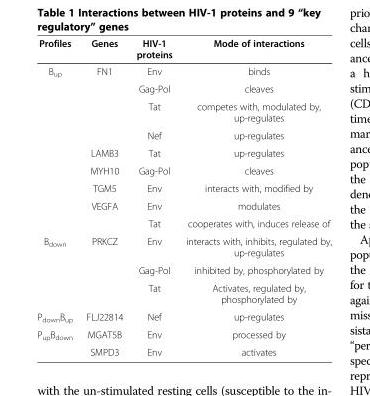table: (36, 37, 331, 357)
table column: (178, 37, 331, 357), (78, 37, 129, 357), (129, 37, 178, 357), (36, 37, 78, 357)
table column header: (36, 37, 331, 62)
table row: (36, 97, 331, 126), (36, 232, 331, 261), (36, 278, 331, 307), (36, 37, 331, 62), (36, 79, 331, 97), (36, 143, 331, 161), (36, 161, 331, 179), (36, 196, 331, 214), (36, 214, 331, 232), (36, 307, 331, 325), (36, 62, 331, 79), (36, 126, 331, 143), (36, 179, 331, 196), (36, 261, 331, 278), (36, 325, 331, 342), (36, 342, 331, 357)
table spanning cell: (36, 62, 78, 232), (78, 62, 129, 143), (78, 232, 129, 307), (36, 232, 78, 307), (78, 196, 129, 232), (36, 325, 78, 357)
